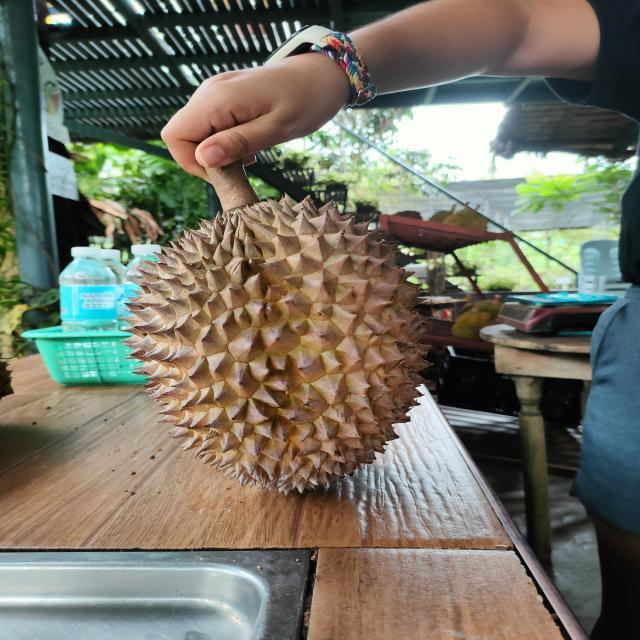mature: (123, 196, 427, 494)
